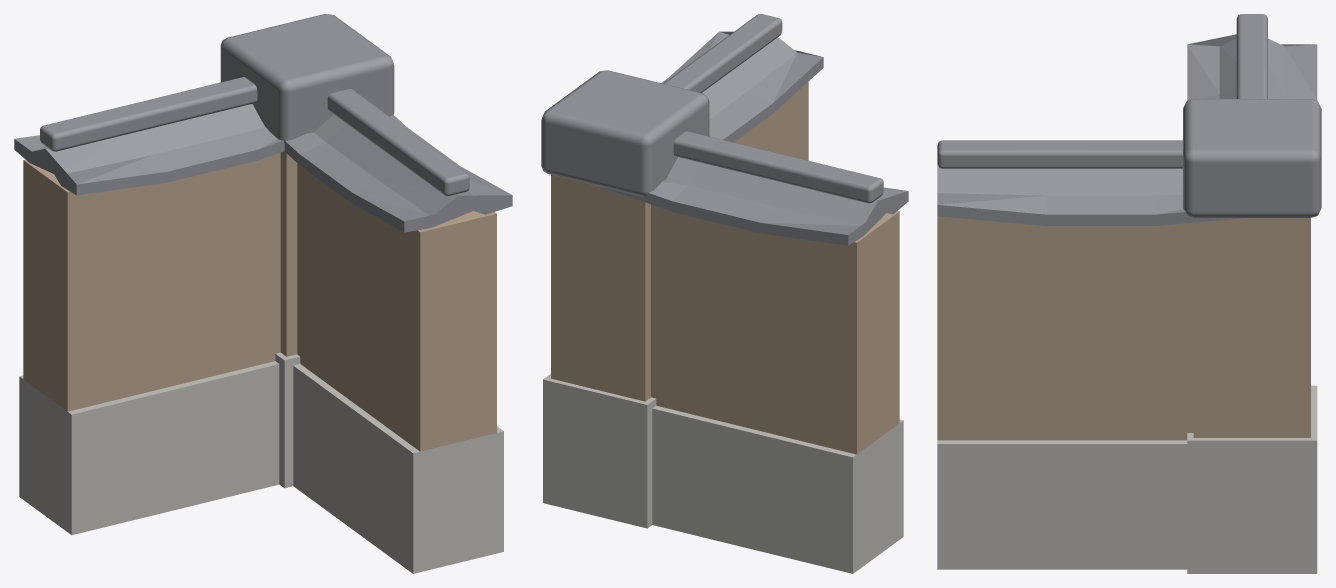
The model's file is korean-hanok-village-and-street-village-wall-corner-36c0db5b__38049.glb.
3 renders of one model, left to right at view 1: azimuth 30°, elevation 25°; view 2: azimuth 150°, elevation 25°; view 3: azimuth 270°, elevation 25°, orthographic. The views are drawn at different scales.
Parts seen in each view (by area): view 1: village-wall-corner; view 2: village-wall-corner; view 3: village-wall-corner.
Part boxes in pixels (<box>): village-wall-corner: <box>14,14,512,573</box>; village-wall-corner: <box>541,14,908,573</box>; village-wall-corner: <box>937,14,1321,573</box>.
Bounding box in the file's own units: 1.83 × 2.22 × 1.83.
